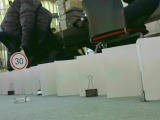speed_30: (9, 52, 28, 71)
